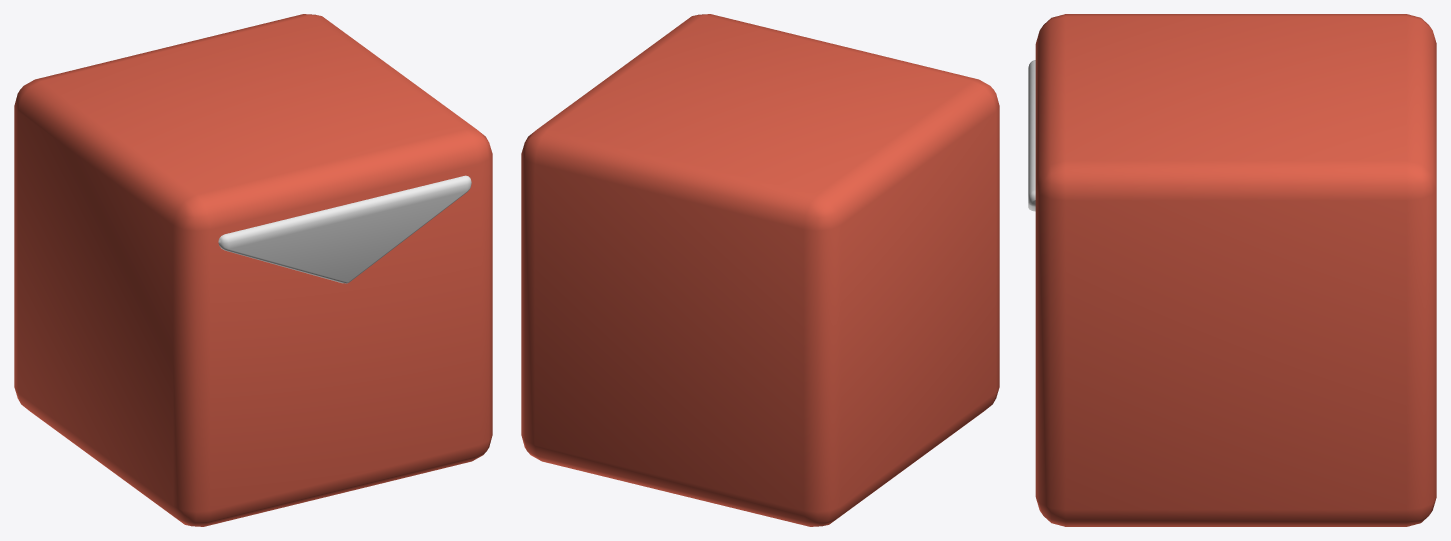
File: rnote.glb
3 views of the same model, side by side, from view 1: azimuth 30°, elevation 25°; view 2: azimuth 150°, elevation 25°; view 3: azimuth 270°, elevation 25° (orthographic). The views are drawn at different scales.
Visible parts, largest first — view 1: Cube, Plane; view 2: Cube; view 3: Cube, Plane.
Boxes of the visible parts, x1=… form: Cube: x1=14, y1=14, x2=492, y2=526; Plane: x1=218, y1=175, x2=471, y2=283; Cube: x1=521, y1=14, x2=999, y2=526; Cube: x1=1035, y1=14, x2=1436, y2=526; Plane: x1=1028, y1=60, x2=1035, y2=211.
Bounding box in the file's own units: 1 × 1 × 1.02.
